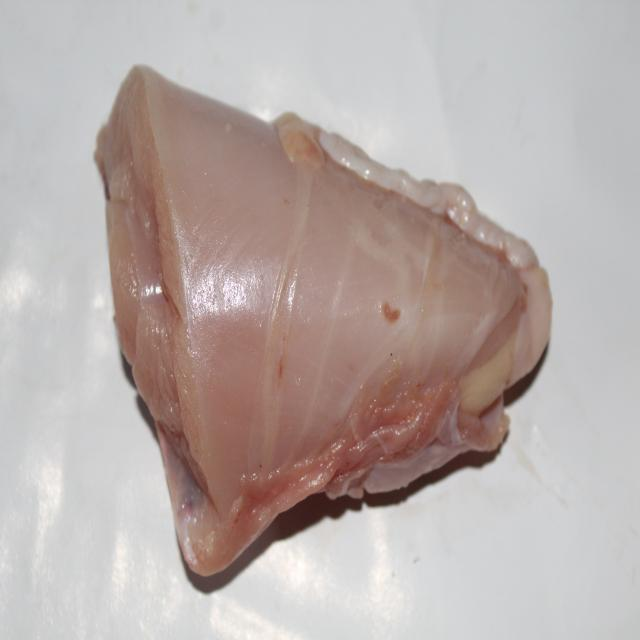Chicken: (96, 63, 546, 576)
